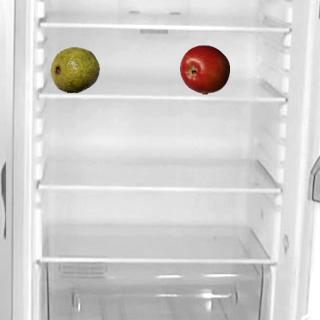Apple Braeburn: (179, 44, 229, 94)
Guava: (49, 44, 99, 94)
